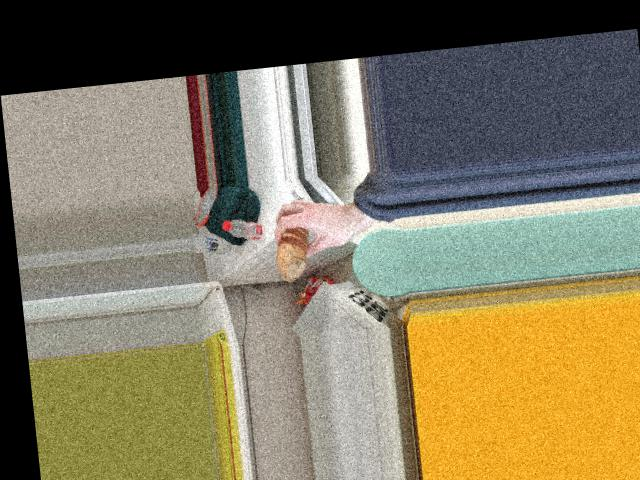sweet_potato: (271, 220, 320, 269)
